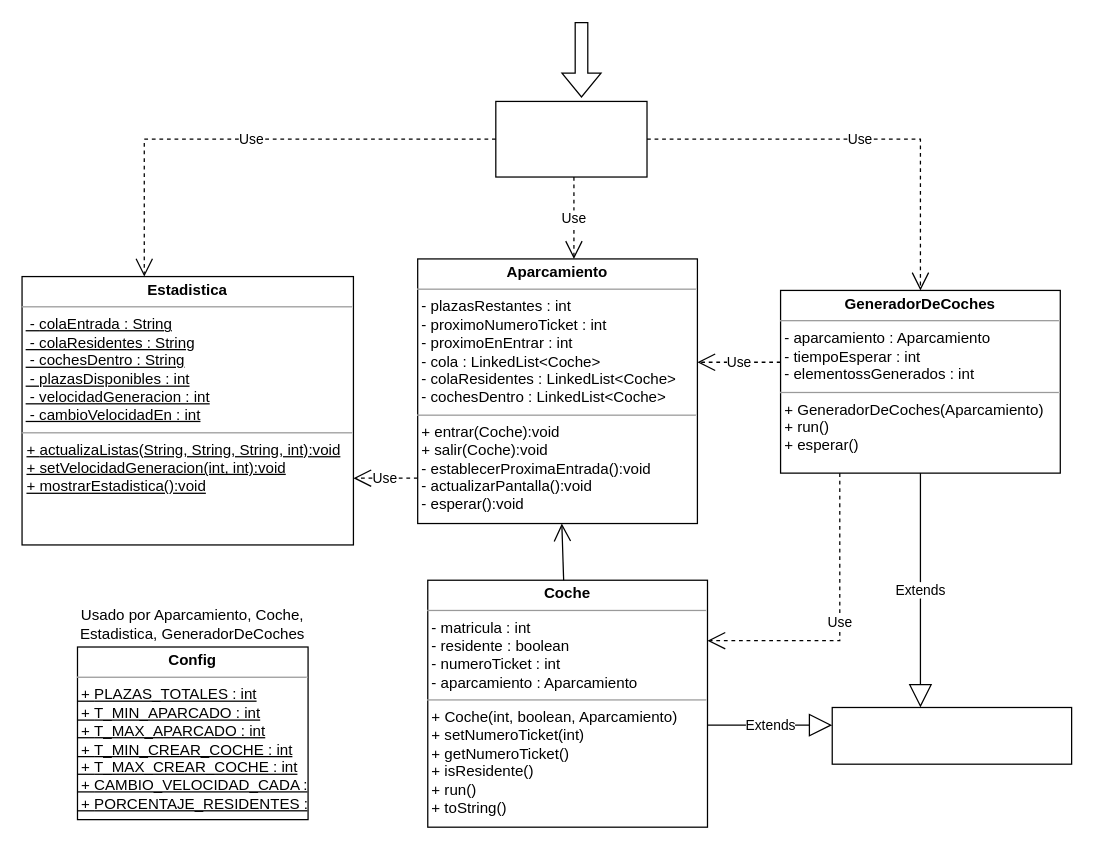
The diagram is 1094 pixels wide and 849 high, and some of its shapes have lost their labels. Here are the shapes that lost their labels. From the top down, the centre of each, then its label:
At point 571,138: "Reto7_14_A + main(String)".
At point 951,735: "Thread".
